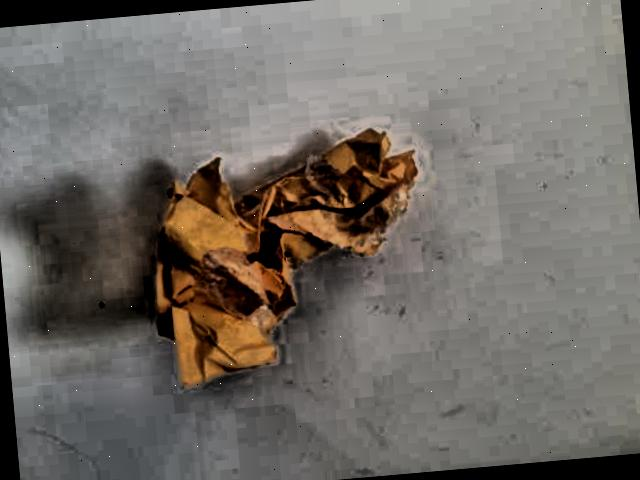Plastic: (120, 103, 449, 404)
